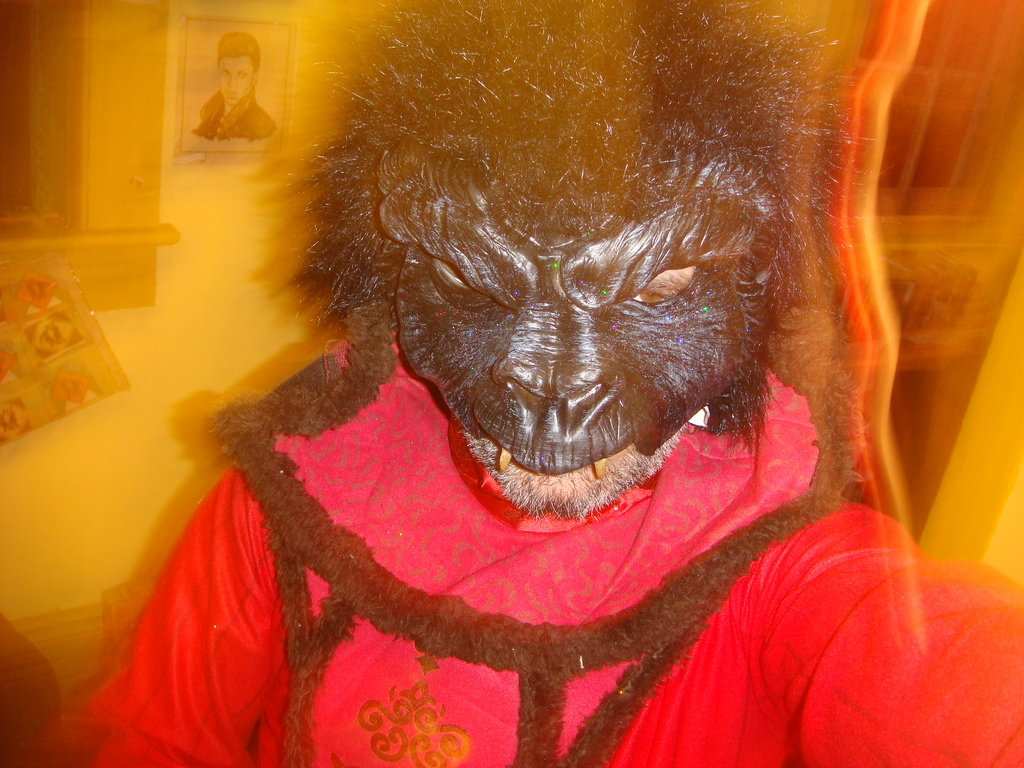Animal: (68, 0, 1022, 766)
